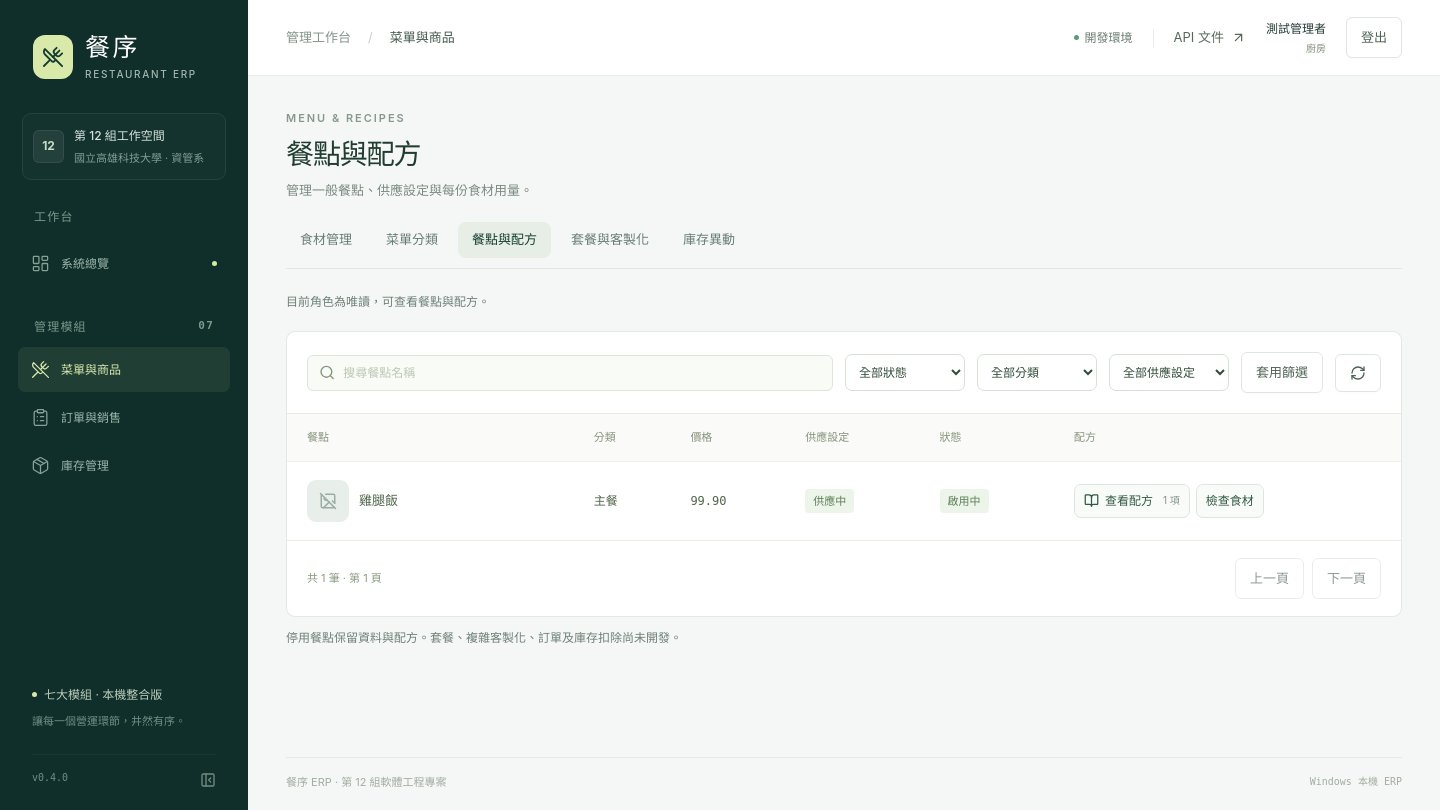
Test: 第二階段 B 前端 API 契約與操作 › KITCHEN 配方頁保持唯讀，未開啟庫存查詢前不額外抓取整份庫存清單
This screenshot has width=1440, height=810.
Click the button "查看配方 1 項". click: (1132, 501)
box: top-left (1074, 484), bottom-right (1190, 518)
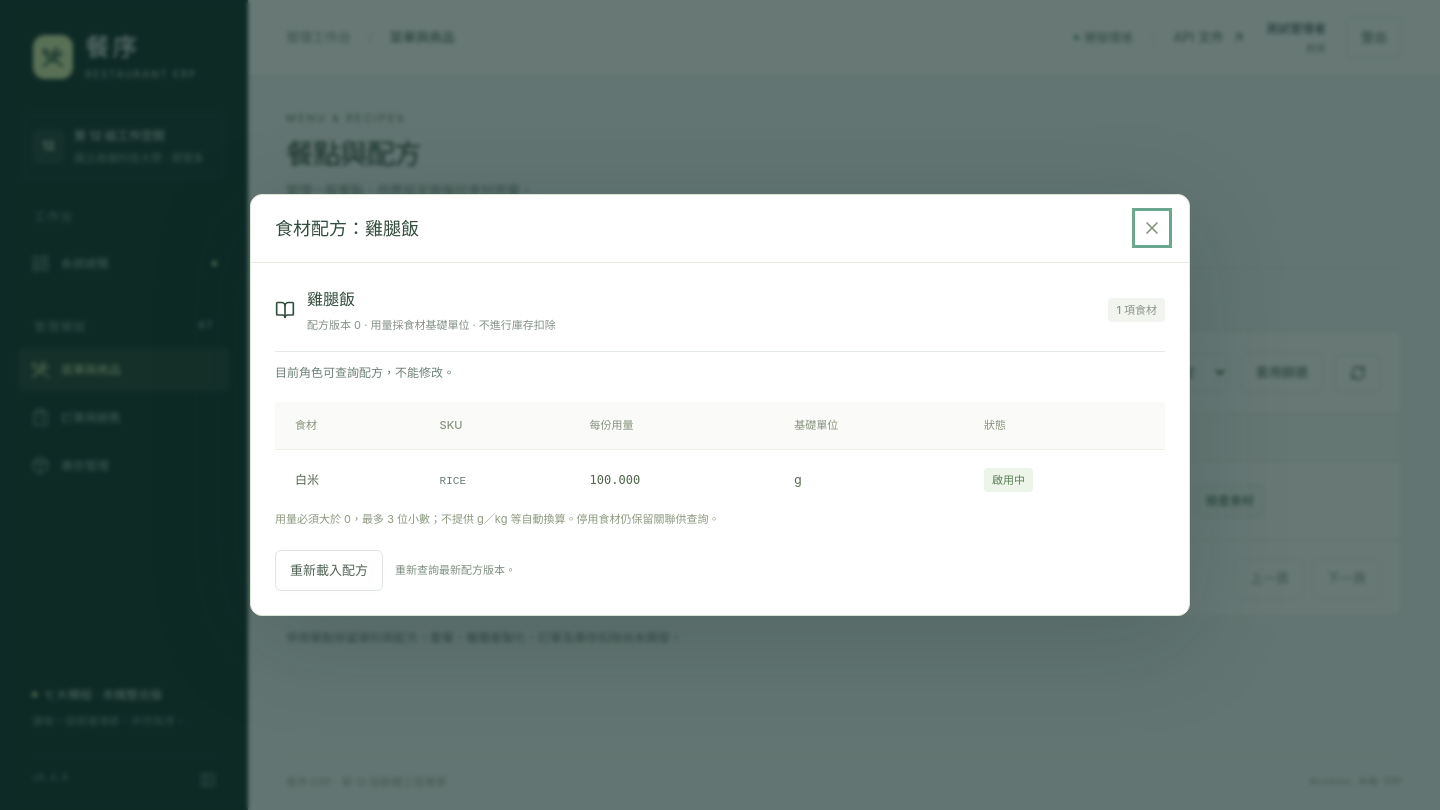
Expected: the text "100.000" is shown, top-left (590, 473), bottom-right (640, 487)
